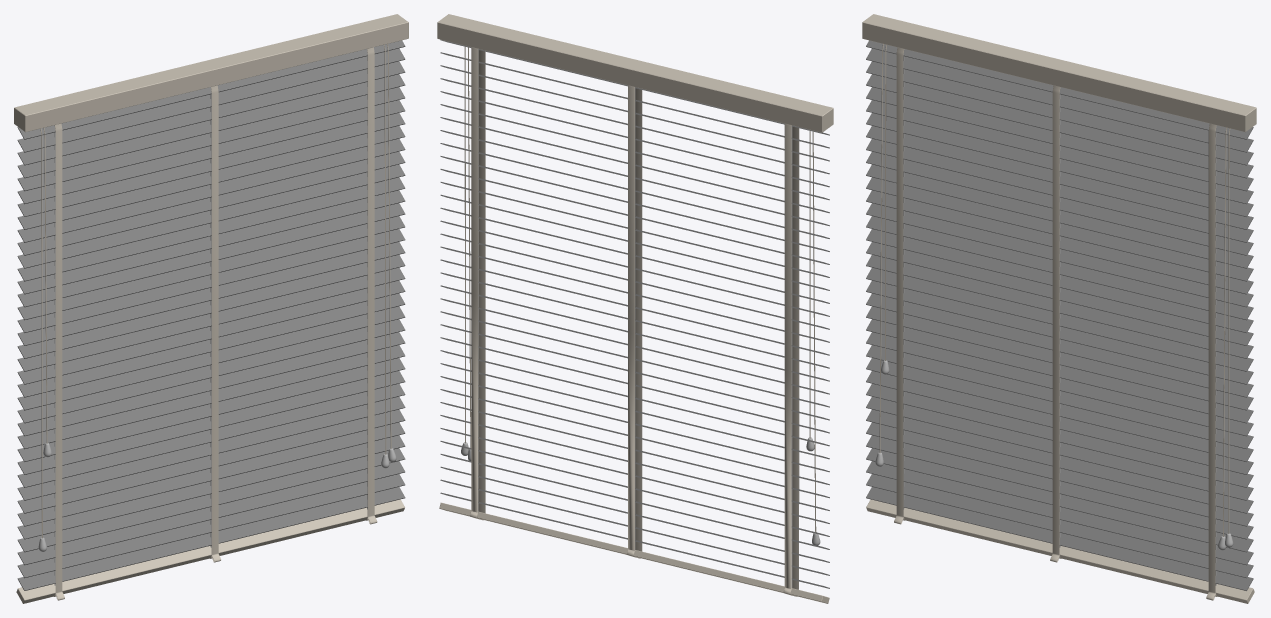
The model's file is Blinds_3.fbx.
3 renders of one model, left to right at view 1: azimuth 30°, elevation 25°; view 2: azimuth 150°, elevation 25°; view 3: azimuth 330°, elevation 25°, orthographic.
Parts seen in each view (by area): view 1: Blinds_3; view 2: Blinds_3; view 3: Blinds_3.
Part boxes in pixels (left/top/right/bottom): Blinds_3: left=14, top=14, right=408, bottom=603; Blinds_3: left=437, top=14, right=833, bottom=603; Blinds_3: left=862, top=14, right=1256, bottom=603.
Size of the model in its own units: 136 by 167 by 8.22.
